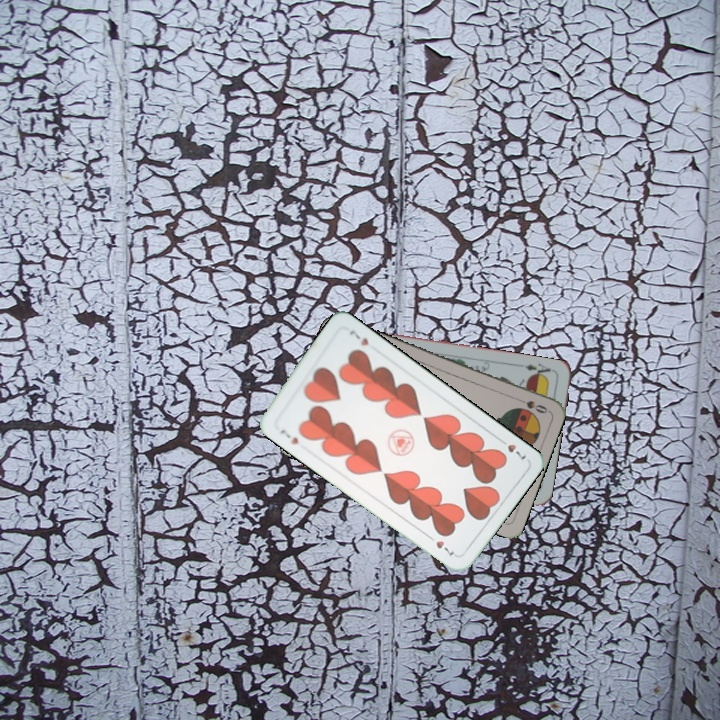EA: (516, 359, 556, 381)
H7: (494, 434, 529, 462), (276, 425, 301, 448)
SO: (511, 395, 550, 416)
